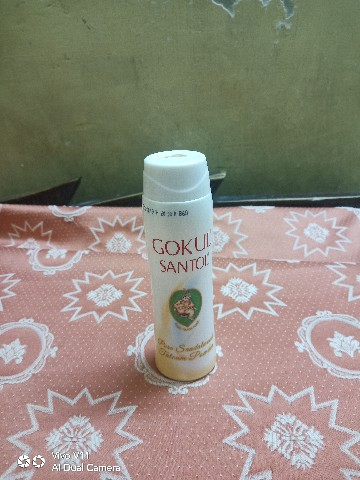gokulsantol big: (126, 134, 229, 414)
